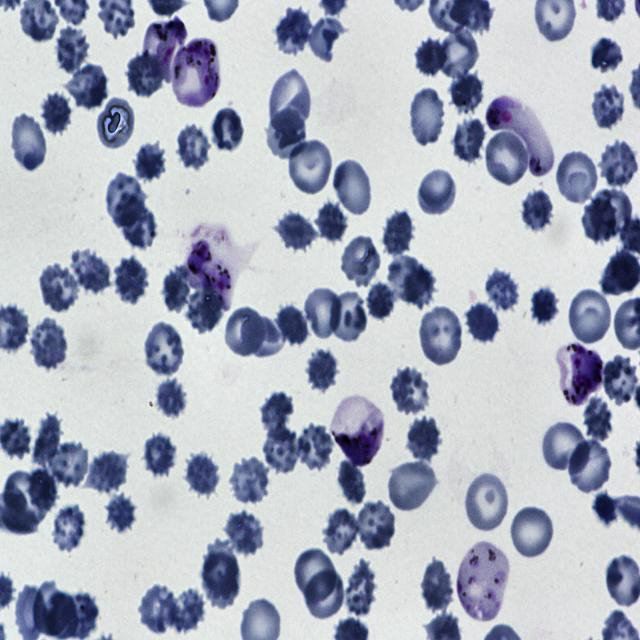red blood cell: (269, 66, 313, 138), (286, 136, 336, 198), (464, 469, 511, 534), (417, 304, 465, 367), (200, 539, 240, 609), (539, 418, 589, 474), (332, 156, 375, 220), (388, 458, 438, 513), (3, 469, 48, 530), (509, 503, 557, 560), (568, 284, 612, 346), (567, 438, 614, 496), (141, 321, 188, 378), (94, 93, 136, 155), (34, 579, 78, 638), (555, 148, 599, 206), (484, 130, 529, 186), (407, 86, 446, 147), (104, 173, 148, 227), (354, 498, 398, 552), (117, 196, 159, 251), (37, 262, 83, 312), (388, 366, 433, 417), (223, 306, 267, 358), (294, 548, 336, 602), (227, 454, 271, 505), (596, 139, 640, 190), (10, 113, 48, 172), (304, 284, 343, 341), (388, 254, 432, 304), (268, 107, 311, 158), (420, 557, 458, 614), (64, 62, 108, 110), (68, 247, 112, 295), (262, 424, 304, 474), (304, 569, 345, 620), (341, 234, 380, 287), (124, 48, 167, 96), (30, 316, 67, 371), (293, 421, 334, 470), (418, 167, 458, 217), (274, 6, 314, 56), (439, 28, 478, 79), (240, 314, 286, 357), (274, 212, 320, 254), (182, 450, 220, 500), (588, 80, 626, 130), (330, 291, 367, 342), (49, 442, 90, 488), (46, 505, 86, 552), (345, 558, 377, 616), (85, 450, 129, 492), (224, 510, 264, 556), (175, 122, 213, 170), (322, 507, 360, 555), (590, 191, 632, 234), (309, 15, 348, 61), (140, 586, 178, 633), (64, 590, 100, 639), (186, 290, 226, 334), (383, 208, 418, 258), (580, 200, 618, 246), (56, 24, 90, 74), (141, 432, 177, 479), (605, 355, 638, 406), (32, 412, 63, 466), (168, 588, 205, 632), (402, 265, 438, 310), (451, 118, 484, 167), (448, 68, 483, 113), (210, 108, 244, 154), (26, 468, 60, 514), (115, 255, 148, 302), (520, 189, 554, 234), (407, 416, 441, 460), (486, 268, 520, 312), (306, 346, 339, 391), (314, 201, 348, 244), (161, 262, 190, 312), (337, 458, 367, 506), (134, 140, 168, 182), (259, 391, 295, 430), (276, 305, 310, 346), (584, 396, 614, 442), (104, 492, 138, 532), (468, 299, 499, 342), (589, 36, 624, 74), (154, 378, 187, 418), (364, 281, 396, 322), (42, 92, 72, 135), (414, 38, 447, 77), (530, 286, 558, 327)
trophozoite: (486, 92, 556, 178), (187, 226, 236, 311), (460, 540, 507, 624), (171, 38, 222, 111), (336, 394, 386, 466), (555, 344, 604, 406), (141, 16, 187, 80)
